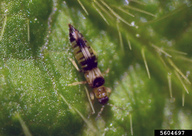Thrips: (65, 21, 114, 111)
